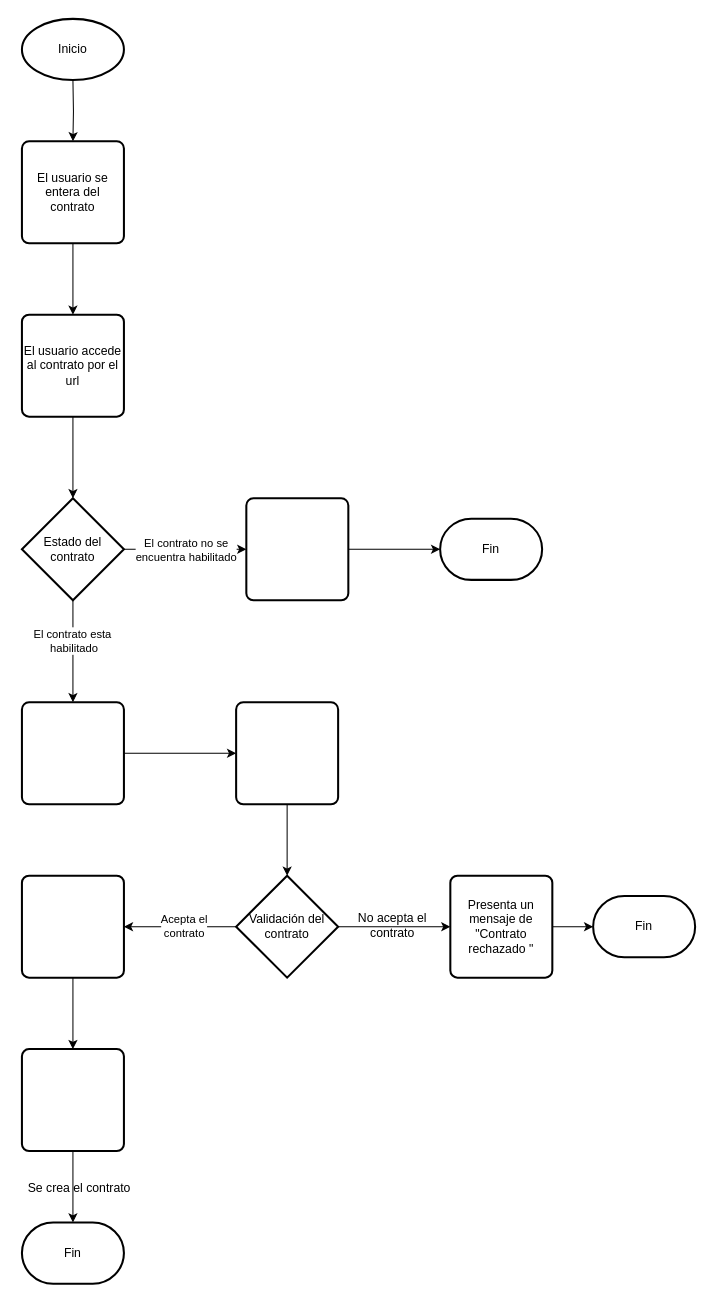
The diagram is 713 pixels wide and 1302 high, and some of its shapes have lost their labels. The centre of each missing label's shape, as x and y in pixels:
El usuario selecciona su contrato habilitado: (287,753)
Envío a la BlockChain: (72,1100)
Instrucciones de apertura de metamask: (72,926)
Pagina de Información para contratación: (72,753)
Presenta un mensaje de notificación "Contrato no habilitado": (297,549)
